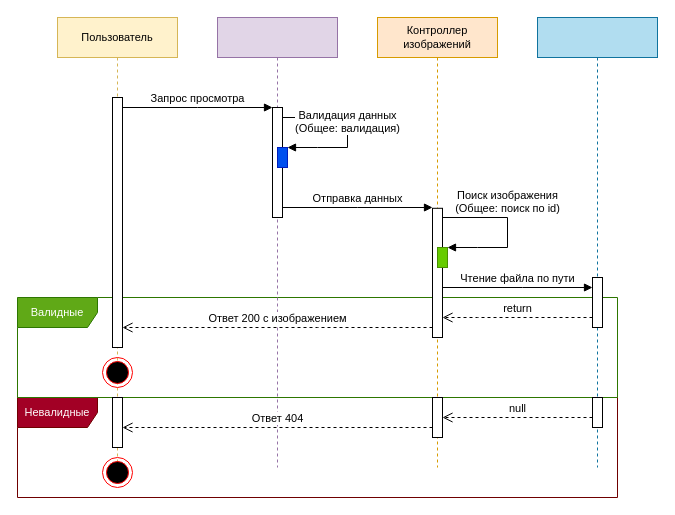
Some shapes in this 675 by 515 pixel diagram are drawn without their labels. Here are the shapes that lost their labels. From the top down, the centre of each, then its label:
At point 277,242: "Система".
At point 597,242: "Файловая система".
